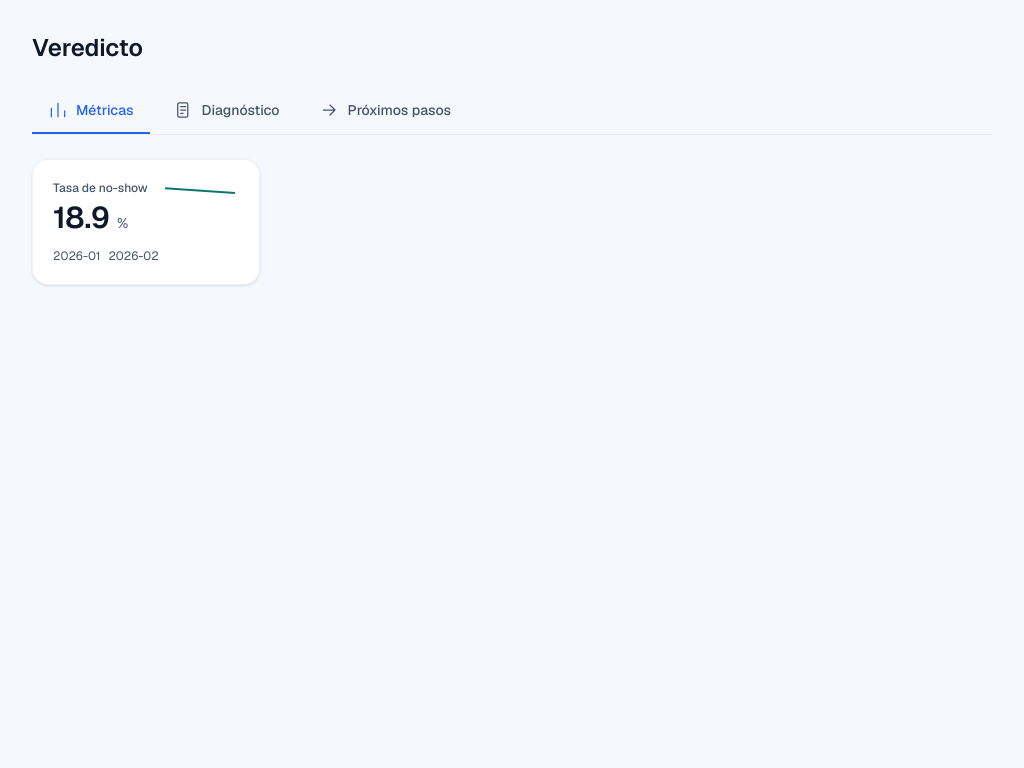
Test: Veredicto (task 2.6) › switches to Diagnóstico when its nav item is clicked, rendering the real DiagnosticoView
Click the button "Diagnóstico" at (227, 111), box [158, 88, 296, 134]
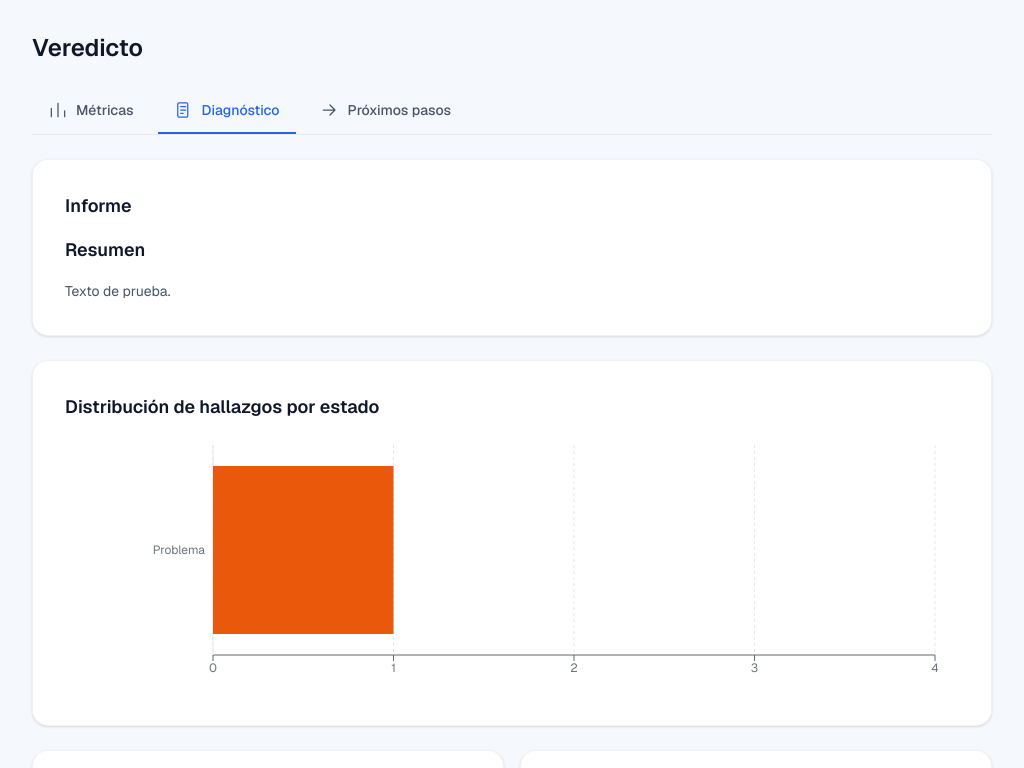
Expected: the button "Tasa de no-show" is not shown
Result: the heading "Resumen" is shown at [65, 238, 145, 261]
Result: the text "Texto de prueba." is shown at [65, 282, 171, 300]
